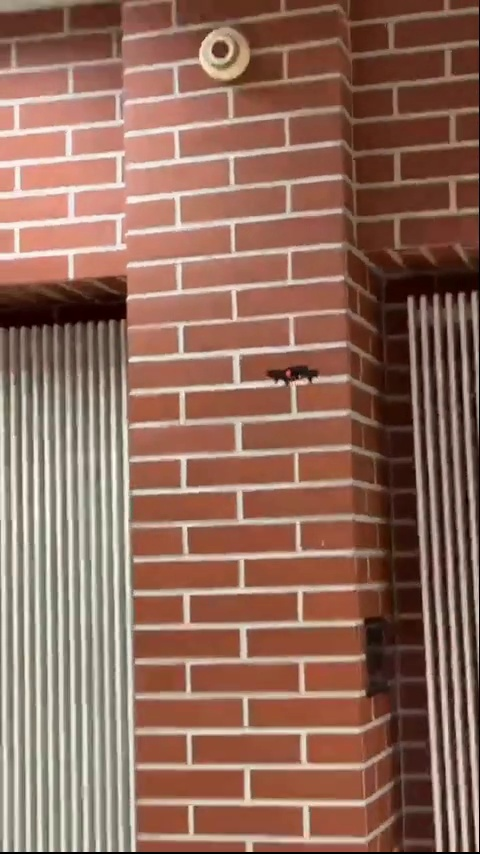drone: (266, 365, 321, 386)
